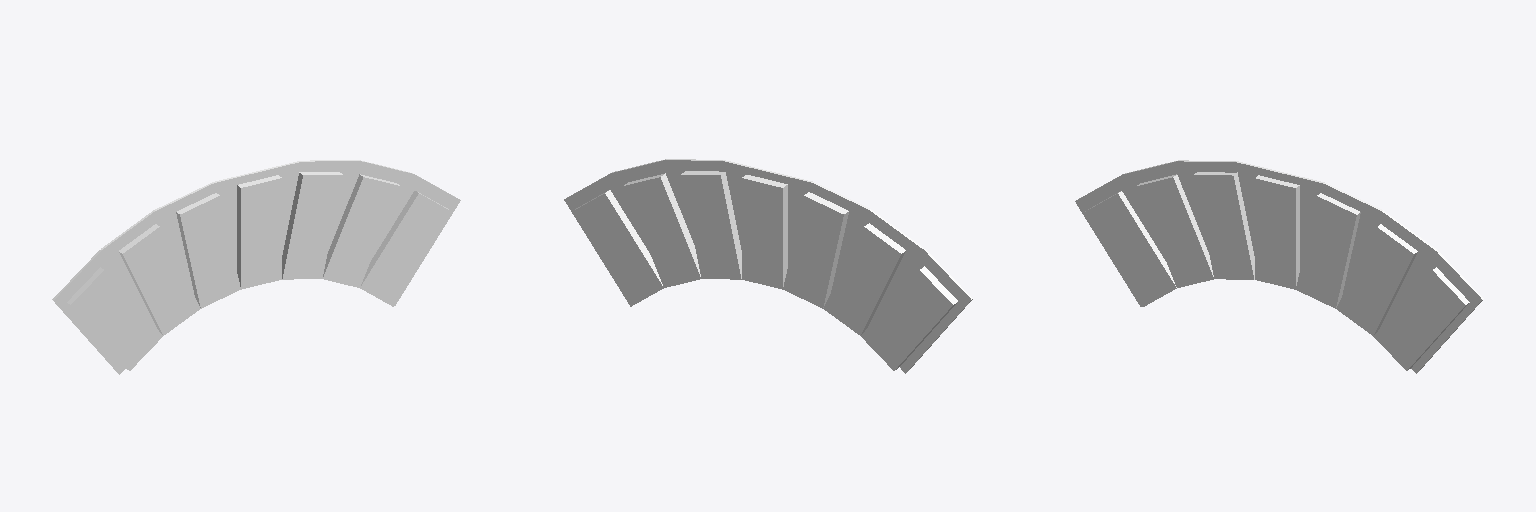
The model's file is lime_mortar_orange_clay_brick_facade_segmental_arch_1_bottom.obj.
The picture shows the model from 3 angles: view 1: azimuth 30°, elevation 25°; view 2: azimuth 150°, elevation 25°; view 3: azimuth 330°, elevation 25°; orthographic projection.
Parts seen in each view (by area): view 1: brick, brick.002, brick.000, brick.001, brick.003, brick.005, brick.004, cube.005, cube.002, cube.003, cube.000, cube.004 (+2 smaller); view 2: brick, brick.002, brick.000, brick.001, brick.003, brick.005, brick.004, cube.002, cube.004, cube.005, cube.003, cube (+2 smaller); view 3: brick.005, brick.003, brick.004, brick.001, brick.002, brick, brick.000, cube.002, cube.000, cube, cube.005, cube.001 (+2 smaller).
Boxes of the visible parts, x1,y1,x2,y2 form: brick: [360, 191, 451, 306]; brick.002: [282, 172, 342, 279]; brick.000: [323, 174, 400, 287]; brick.001: [237, 175, 281, 289]; brick.003: [176, 193, 240, 308]; brick.005: [67, 267, 162, 370]; brick.004: [119, 224, 200, 335]; cube.005: [52, 250, 156, 374]; cube.002: [212, 161, 301, 268]; cube.003: [155, 183, 215, 295]; cube.000: [328, 160, 413, 259]; cube.004: [101, 210, 158, 291]; brick: [572, 190, 663, 306]; brick.002: [681, 171, 741, 279]; brick.000: [623, 173, 700, 287]; brick.001: [742, 175, 787, 289]; brick.003: [783, 192, 848, 308]; brick.005: [861, 266, 957, 370]; brick.004: [823, 223, 905, 335]; cube.002: [723, 160, 812, 264]; cube.004: [831, 209, 923, 326]; cube.005: [900, 249, 972, 373]; cube.003: [811, 182, 869, 279]; cube: [564, 173, 650, 303]; brick.005: [1084, 191, 1176, 306]; brick.003: [1193, 172, 1254, 279]; brick.004: [1136, 174, 1213, 287]; brick.001: [1255, 175, 1299, 289]; brick.002: [1296, 193, 1360, 308]; brick: [1373, 267, 1469, 370]; brick.000: [1336, 224, 1417, 335]; cube.002: [1235, 161, 1324, 268]; cube.000: [1342, 210, 1436, 327]; cube: [1411, 250, 1483, 373]; cube.005: [1075, 174, 1165, 306]; cube.001: [1322, 183, 1382, 283].
Bounding box in the file's own units: 1.55 × 0.6108 × 0.0695.